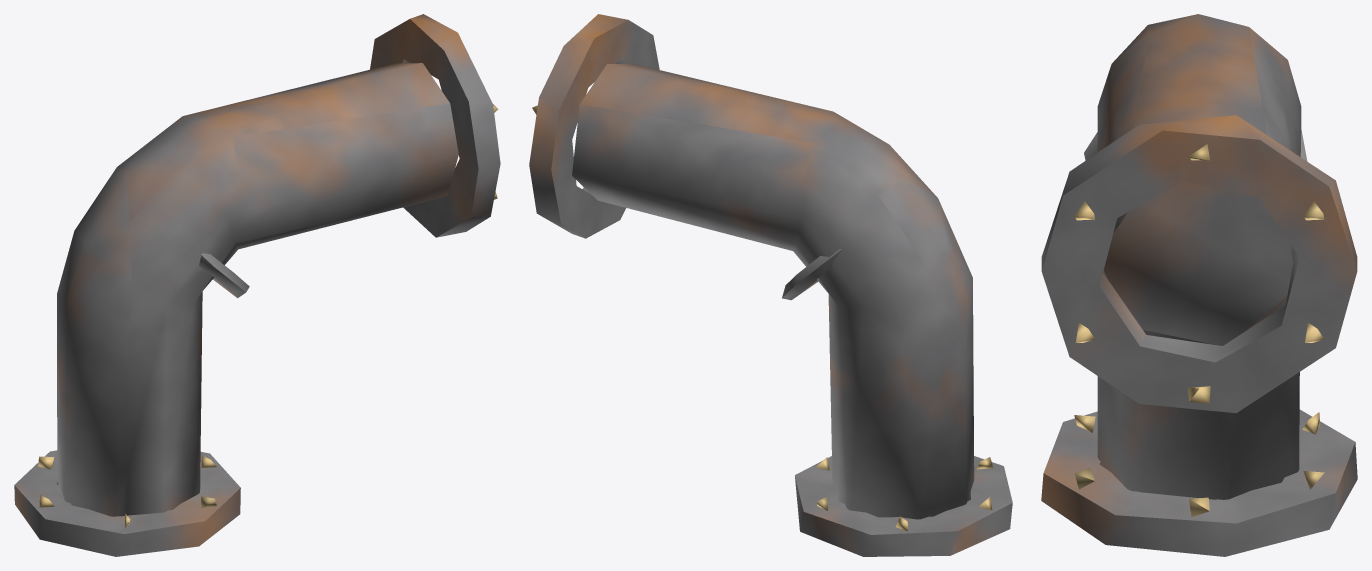
Rendered from pipe_elbow_lod1.gltf.
The picture shows the model from 3 angles, left to right: view 1: azimuth 30°, elevation 25°; view 2: azimuth 150°, elevation 25°; view 3: azimuth 270°, elevation 25°; orthographic projection. The views are drawn at different scales.
Visible parts, largest first — view 1: pipe_elbow_LOD1; view 2: pipe_elbow_LOD1; view 3: pipe_elbow_LOD1.
Boxes of the visible parts, x1,y1,x2,y2 form: pipe_elbow_LOD1: (14,14,500,556); pipe_elbow_LOD1: (529,14,1012,556); pipe_elbow_LOD1: (1041,14,1357,556).
Bounding box in the file's own units: 1.16 × 1.07 × 0.5288.
Materials: 1 (1 with a texture image).
